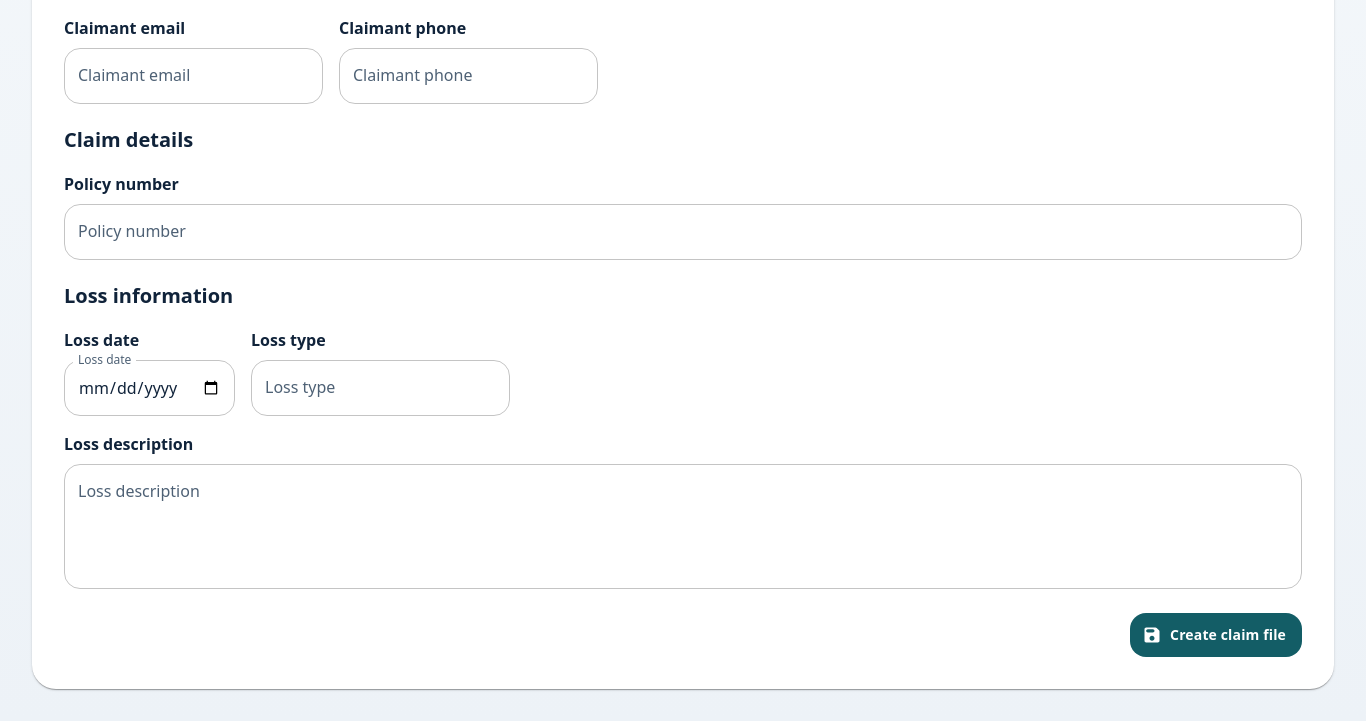
Test case: Claim form › shows field-level validation errors before submit
(page scrolled)
Click the button "Create claim file": (1216, 635) [1130, 613, 1302, 657]
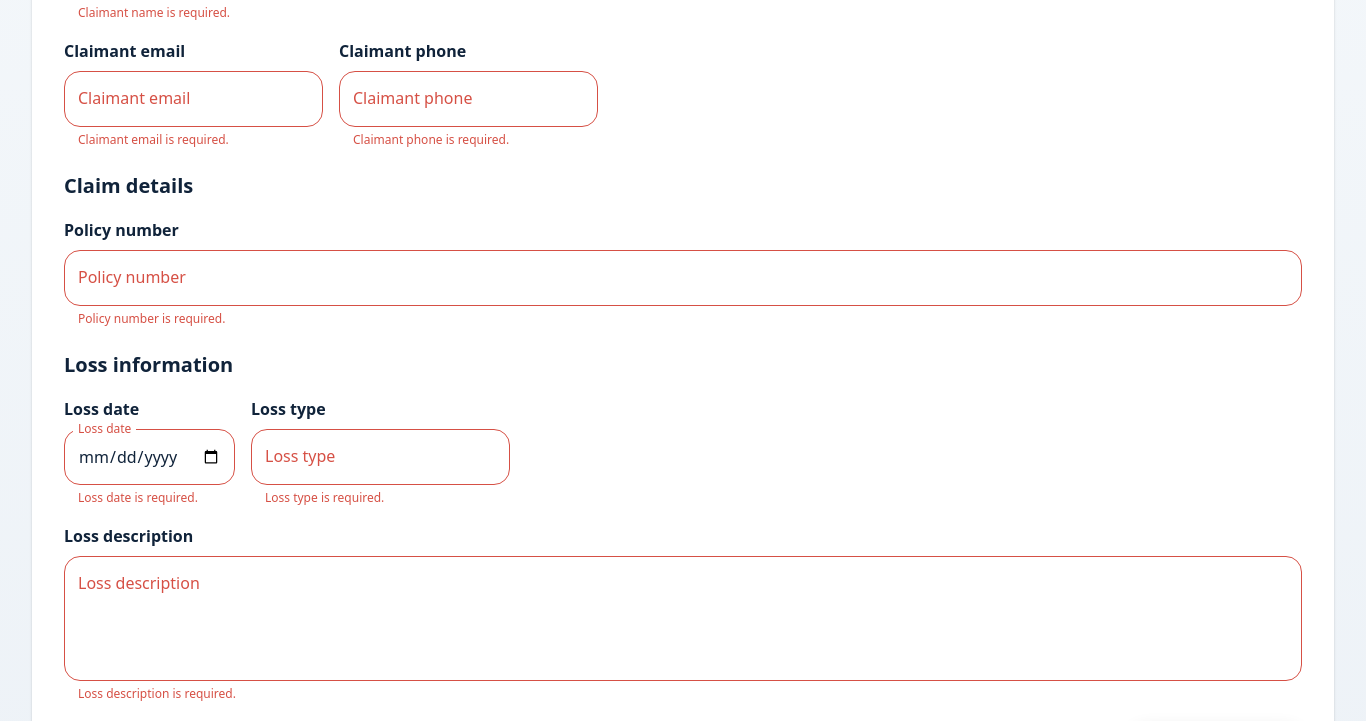
Now the text "Claimant name is required." is shown, box [78, 4, 230, 21]
Now the text "Claimant email is required." is shown, box [78, 131, 229, 148]
Now the text "Loss description is required." is shown, box [78, 685, 236, 702]
